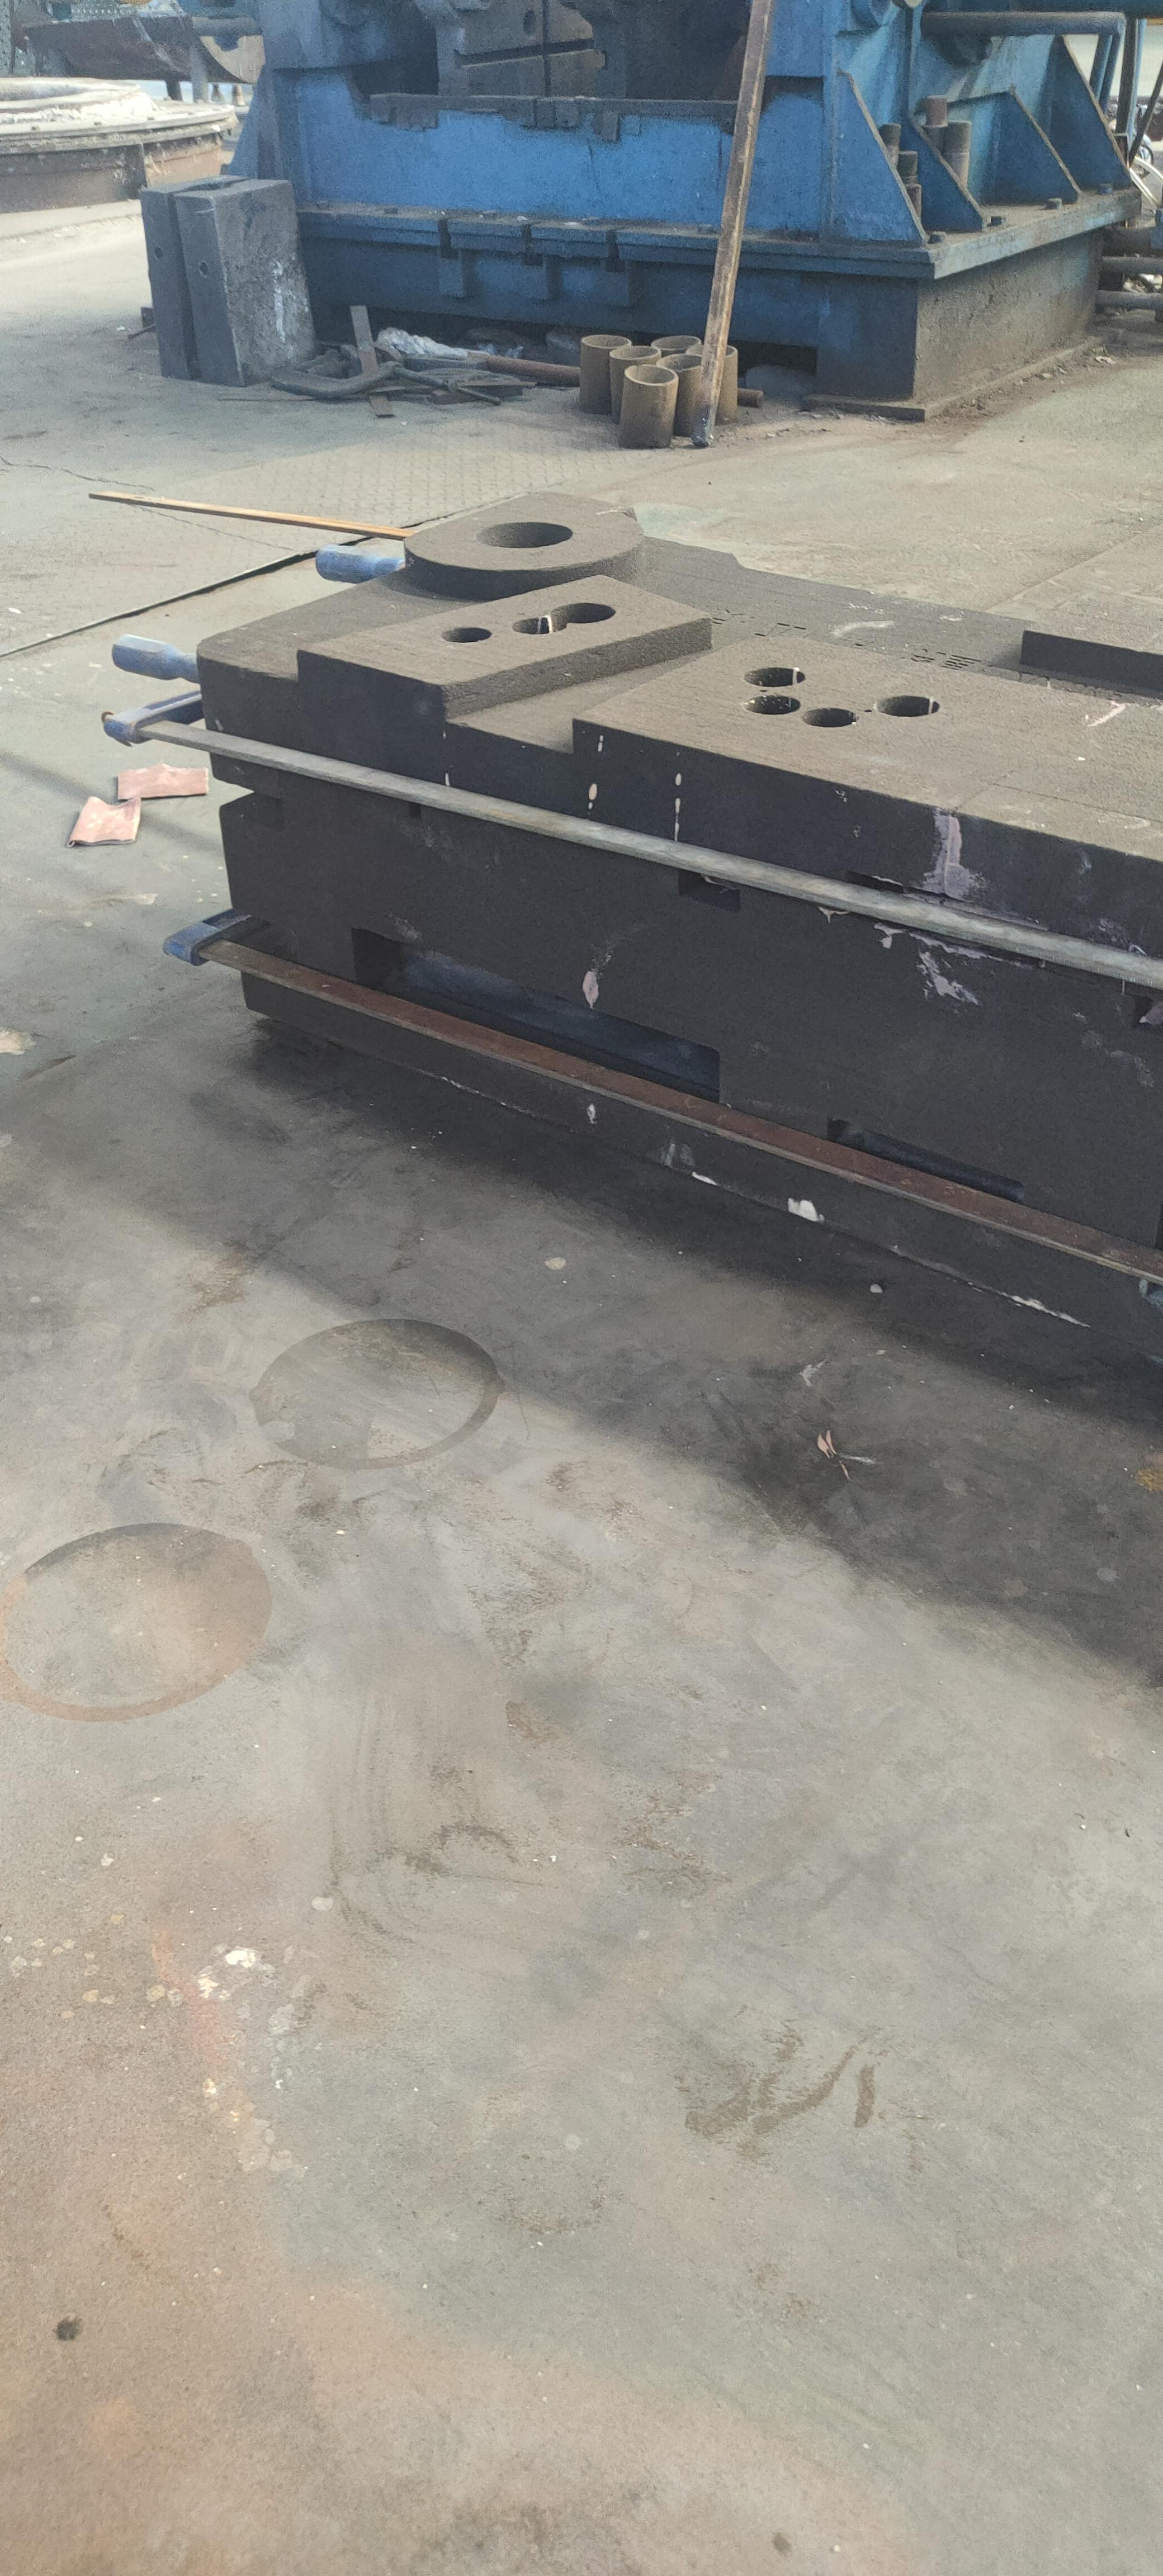pouring hole: (473, 517, 575, 552), (624, 363, 678, 384), (647, 333, 701, 352), (580, 333, 631, 350), (685, 343, 738, 358), (660, 355, 706, 371), (608, 347, 660, 360)
